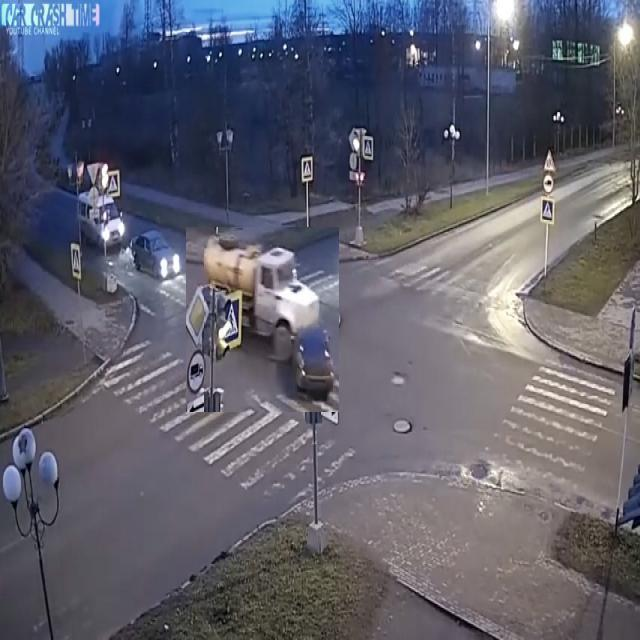multiple_accident: (171, 200, 347, 409)
